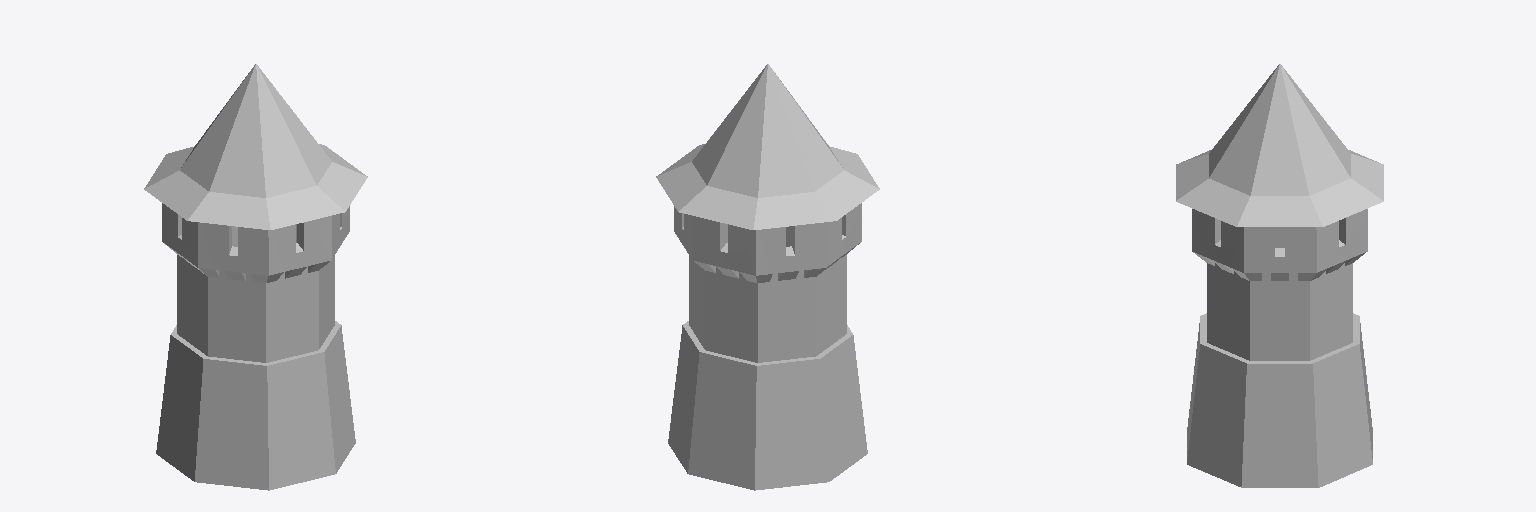
Rendered from tower.obj.
3 views of the same model, side by side, from view 1: azimuth 30°, elevation 25°; view 2: azimuth 150°, elevation 25°; view 3: azimuth 270°, elevation 25° (orthographic).
Parts seen in each view (by area): view 1: tower; view 2: tower; view 3: tower.
Part boxes in pixels (x1,y1,x2,y2): tower: (144,64,367,490); tower: (656,64,879,490); tower: (1176,64,1383,487).
Size of the model in its own units: 9.71 by 19.78 by 9.71.